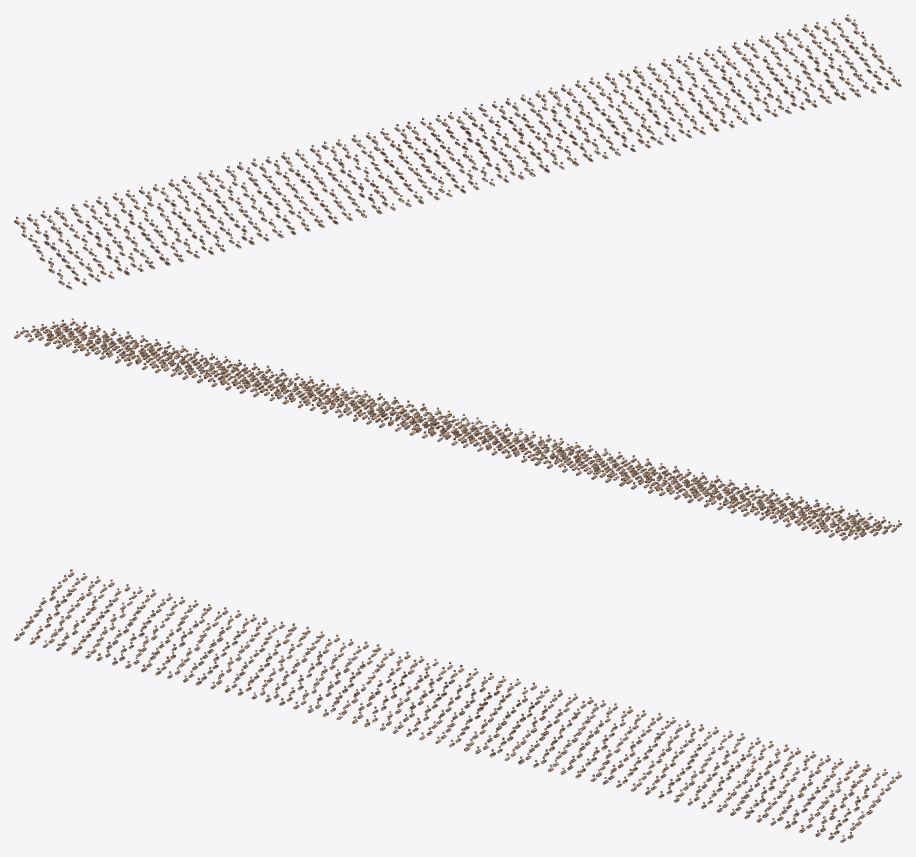
Rendered from crowd.obj.
The picture shows the model from 3 angles, top to bottom: view 1: azimuth 30°, elevation 25°; view 2: azimuth 150°, elevation 25°; view 3: azimuth 330°, elevation 25°; orthographic projection.
Parts seen in each view (by area): view 1: crowd; view 2: crowd; view 3: crowd.
Boxes of the visible parts, x1=… form: crowd: x1=14, y1=14, x2=901, y2=289; crowd: x1=14, y1=318, x2=901, y2=540; crowd: x1=14, y1=569, x2=901, y2=842.
Size of the model in its own units: 154 by 5.75 by 18.29.
1 material, 1 textured.
